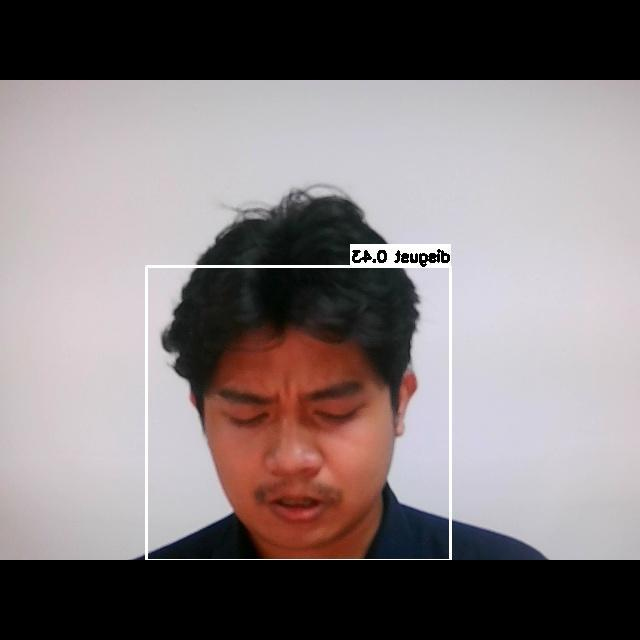Angry: (200, 354, 399, 532)
